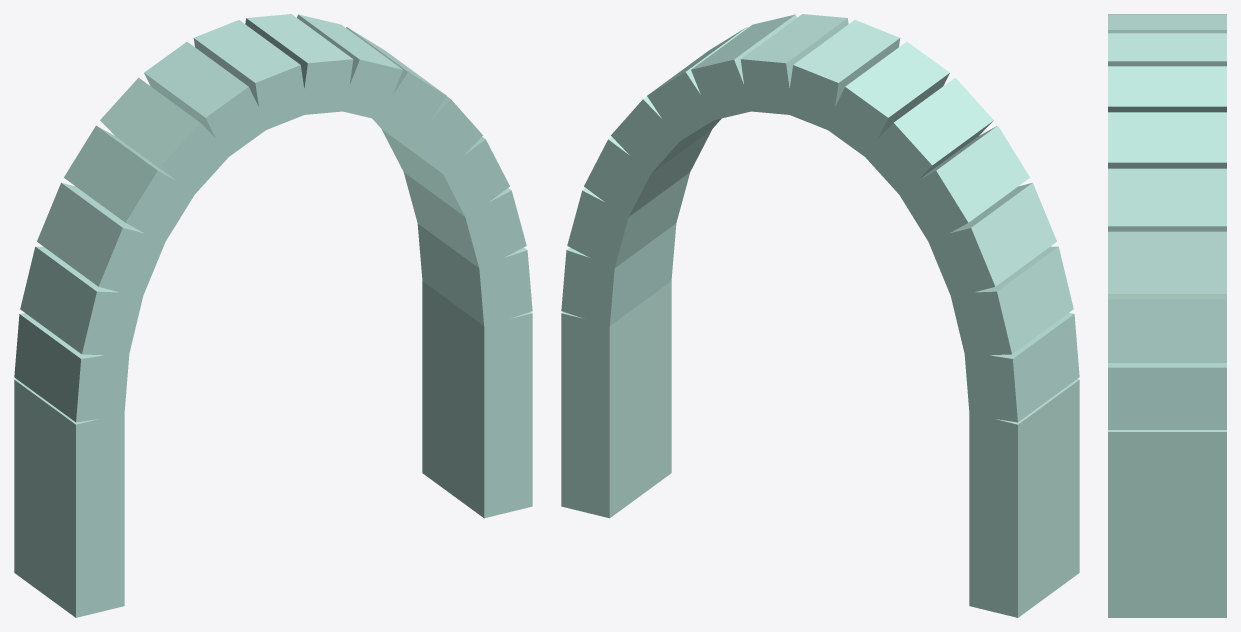
File: opal-arch.obj
The picture shows the model from 3 angles, left to right: view 1: azimuth 30°, elevation 25°; view 2: azimuth 150°, elevation 25°; view 3: azimuth 270°, elevation 25°; orthographic projection. The views are drawn at different scales.
Size of the model in its own units: 0.94 by 0.9795 by 0.22.
